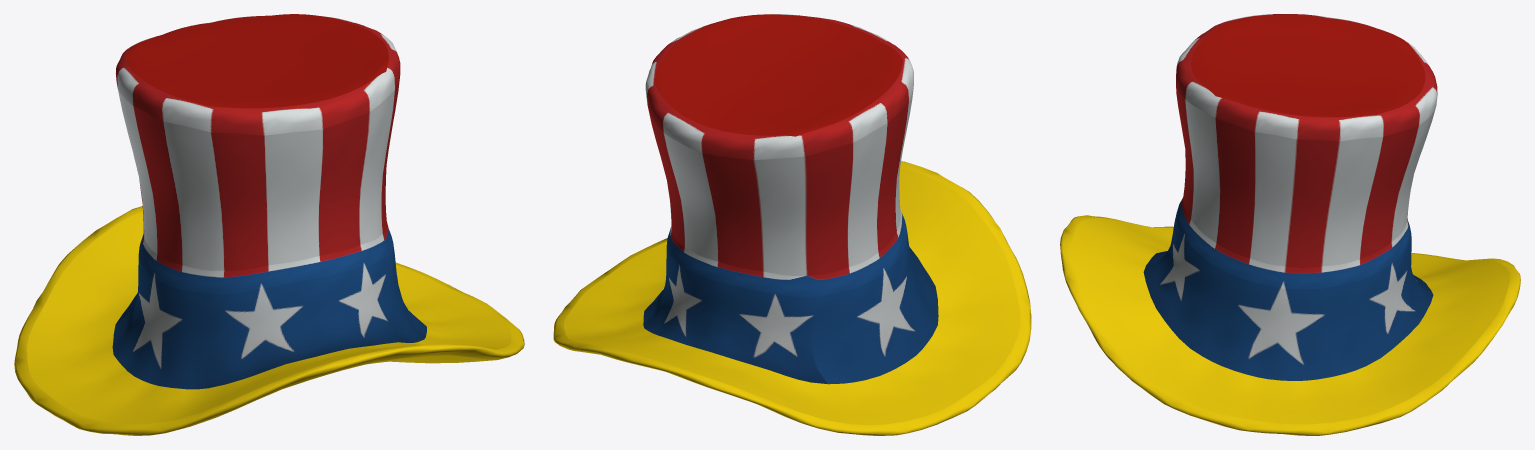
File: AmericanHat.fbx
The picture shows the model from 3 angles, left to right: view 1: azimuth 30°, elevation 25°; view 2: azimuth 150°, elevation 25°; view 3: azimuth 270°, elevation 25°; orthographic projection. The views are drawn at different scales.
Visible parts, largest first — view 1: AmericanHat; view 2: AmericanHat; view 3: AmericanHat.
Boxes of the visible parts, x1=… form: AmericanHat: x1=14, y1=14, x2=524, y2=435; AmericanHat: x1=553, y1=14, x2=1031, y2=435; AmericanHat: x1=1060, y1=14, x2=1520, y2=435.
Bounding box in the file's own units: 689 × 465 × 685.
3 materials, 1 textured.
